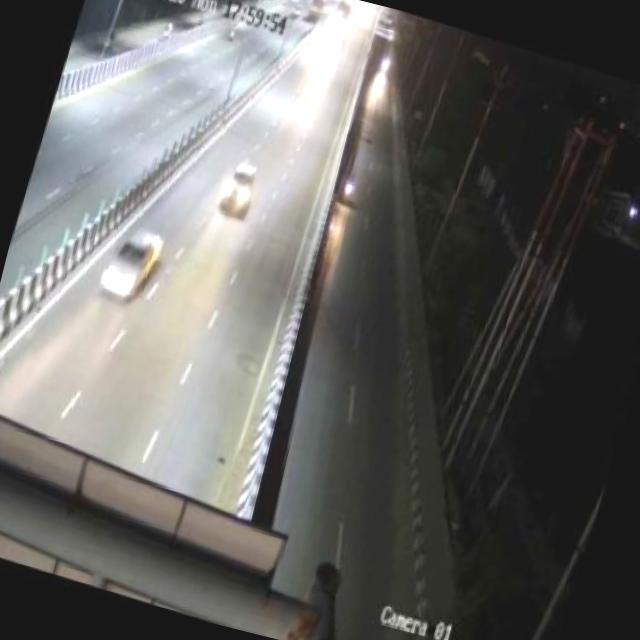car: (94, 212, 173, 306), (218, 155, 264, 219)
